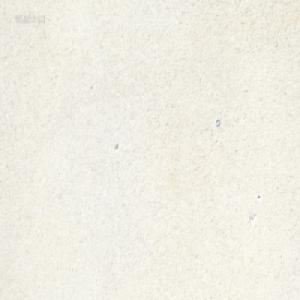Washer: (214, 117, 220, 128)
